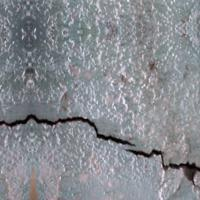crack: (0, 96, 198, 189)
